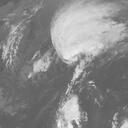cyclone: (46, 17, 93, 67)
